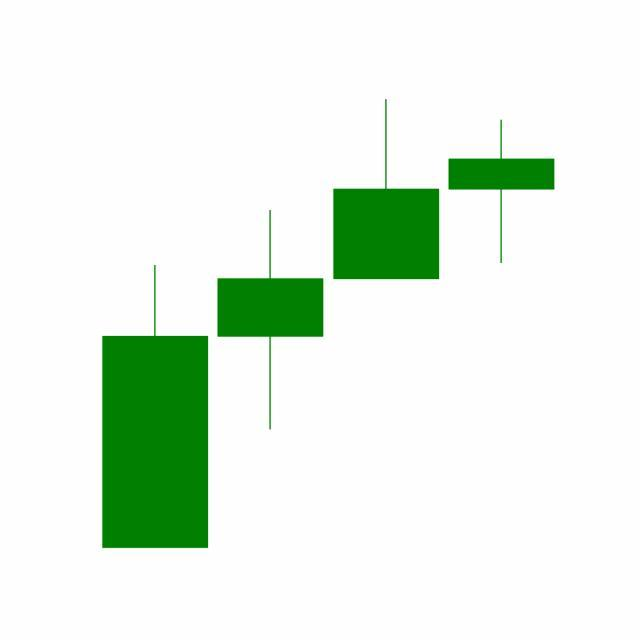Spinning Top: (444, 118, 560, 266)
